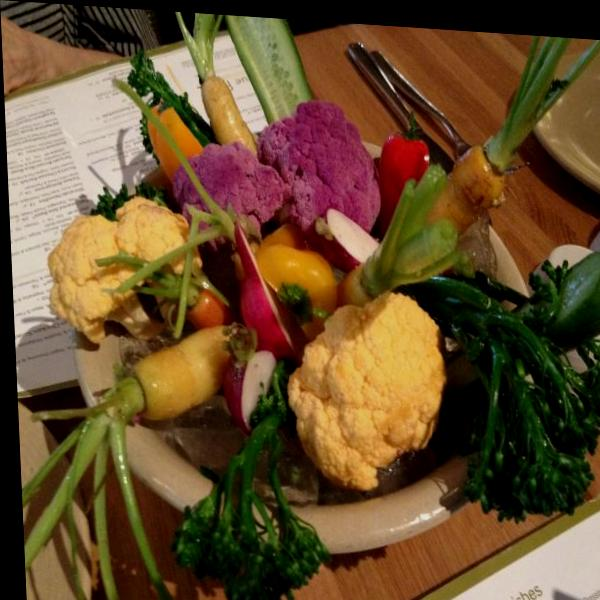Cauliflower: (295, 286, 454, 483), (38, 204, 155, 344), (102, 187, 206, 293)
